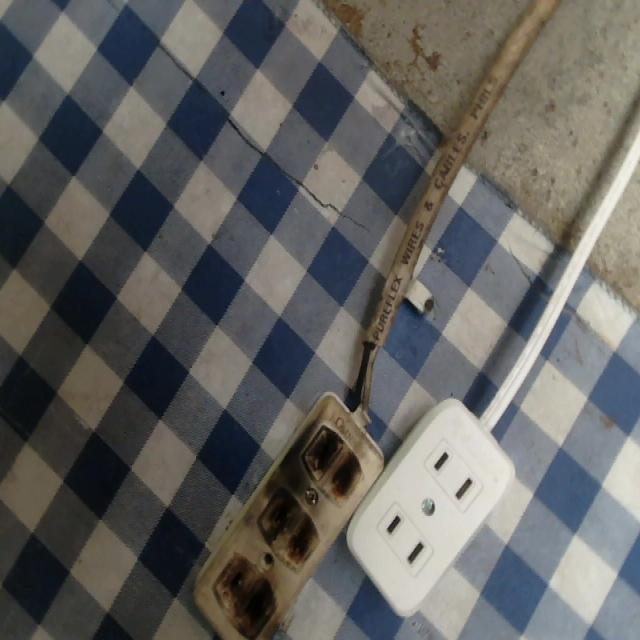-: (210, 550, 282, 638), (299, 417, 365, 499), (257, 484, 319, 567)
